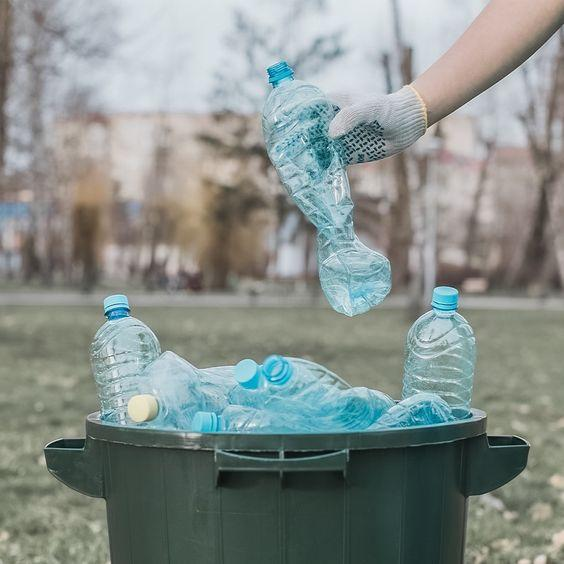HDPE: (126, 393, 160, 424), (232, 358, 263, 392), (429, 284, 460, 311), (189, 410, 218, 432), (102, 293, 132, 314)
PETE: (260, 60, 391, 318), (262, 353, 396, 434), (401, 311, 477, 420), (90, 310, 163, 420)
PVC: (43, 425, 529, 564)
